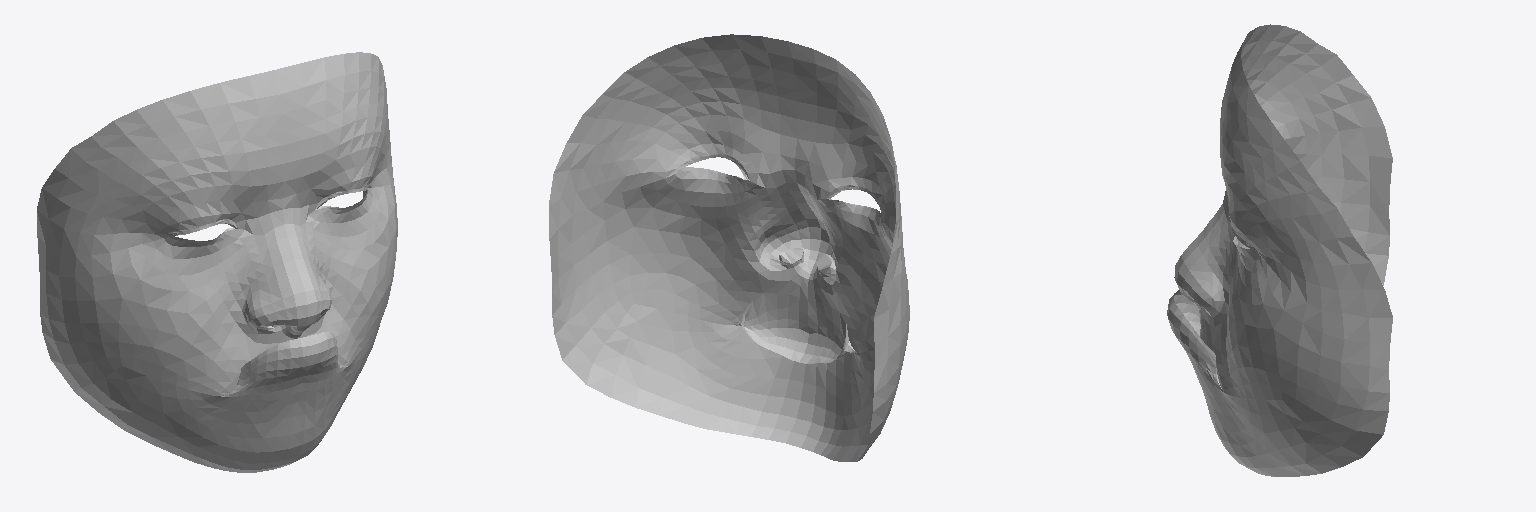
Rendered from mouthClose.obj.
3 views of the same model, side by side, from view 1: azimuth 30°, elevation 25°; view 2: azimuth 150°, elevation 25°; view 3: azimuth 270°, elevation 25° (orthographic).
Parts seen in each view (by area): view 1: default; view 2: default; view 3: default.
Part boxes in pixels (left/top/right/bottom): default: left=37, top=52, right=397, bottom=472; default: left=549, top=34, right=909, bottom=461; default: left=1167, top=24, right=1392, bottom=476.
Size of the model in its own units: 0.1624 by 0.1848 by 0.0945.